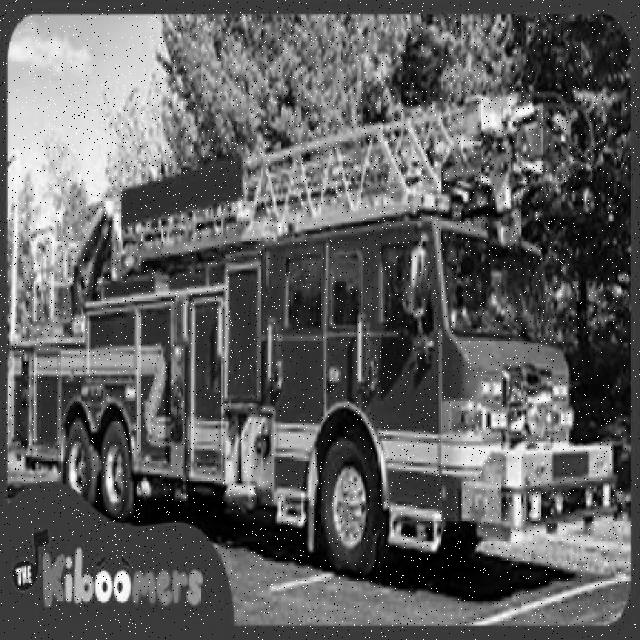Fire Truck: (4, 91, 615, 579)
